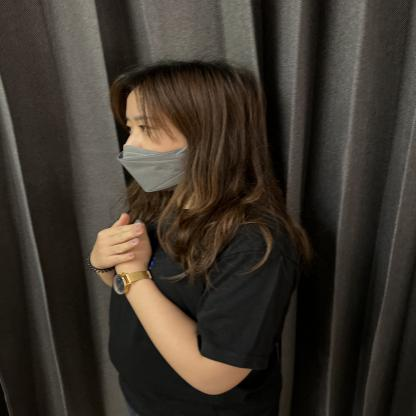Grieve: (38, 194, 215, 281)
